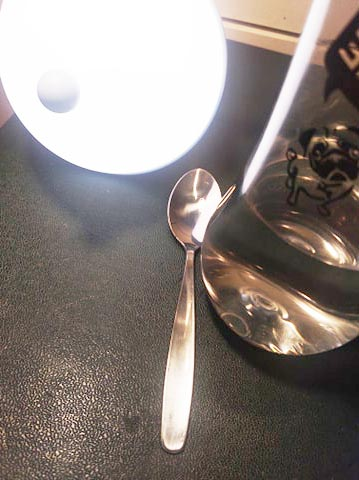Lyzka: (162, 165, 227, 252)
